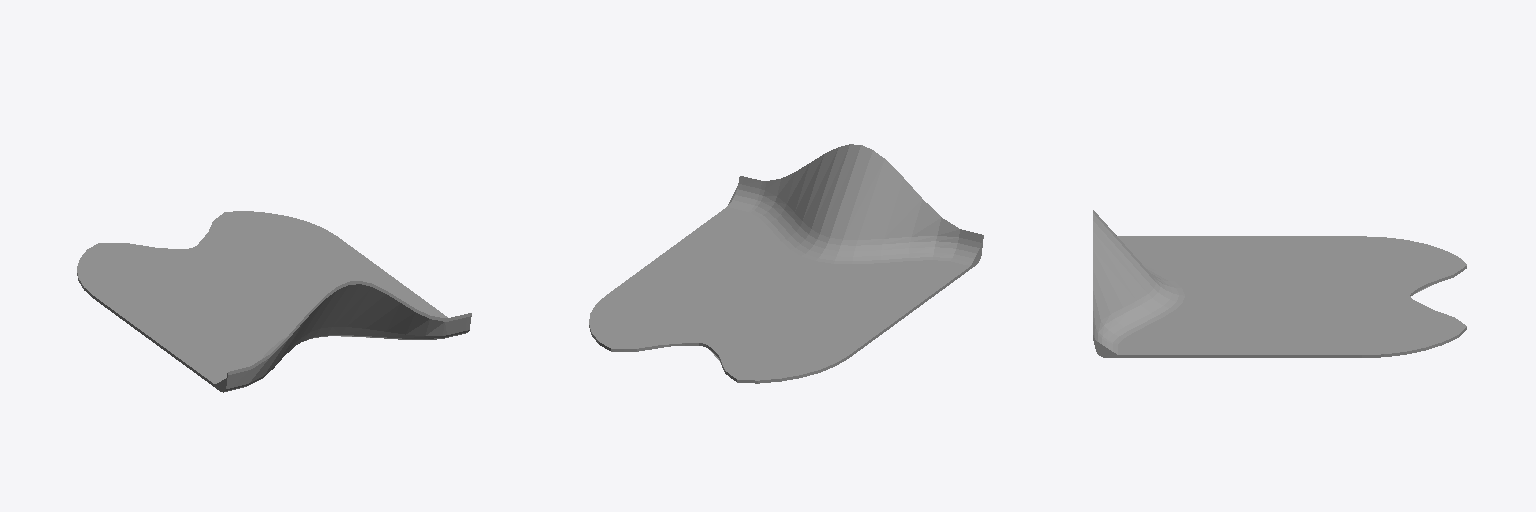
The model's file is TableTop2.obj.
3 views of the same model, side by side, from view 1: azimuth 30°, elevation 25°; view 2: azimuth 150°, elevation 25°; view 3: azimuth 270°, elevation 25° (orthographic).
Visible parts, largest first — view 1: Cube.002; view 2: Cube.002; view 3: Cube.002.
Part boxes in pixels (x1,y1,x2,y2): Cube.002: (77, 211, 471, 392); Cube.002: (589, 144, 983, 383); Cube.002: (1093, 210, 1466, 357).
Size of the model in its own units: 2.49 by 0.836 by 3.32.